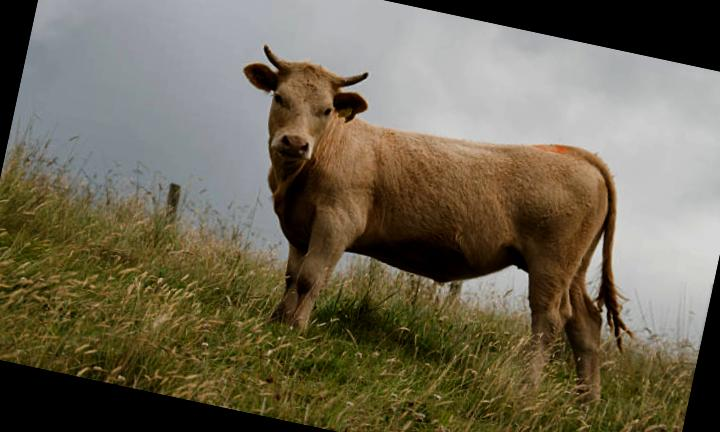Charolais: (244, 46, 627, 400)
